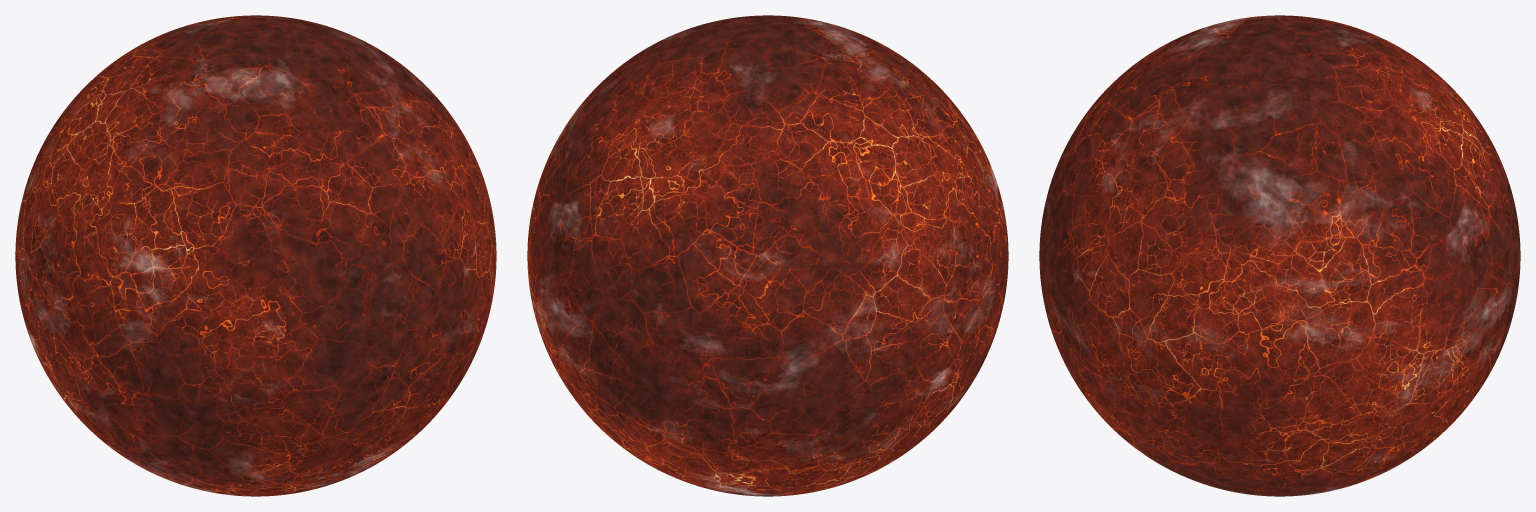
Rendered from Inferno.18f5cf3c13.glb.
3 renders of one model, left to right at view 1: azimuth 30°, elevation 25°; view 2: azimuth 150°, elevation 25°; view 3: azimuth 270°, elevation 25°, orthographic.
Parts seen in each view (by area): view 1: Inferno_NY_01, Inferno_NX_11, Inferno_PZ_00, Inferno_NY_00, Inferno_NY_11, Inferno_NX_10, Inferno_PZ_10, Inferno_NY_10, Inferno_NX_01, Inferno_PZ_01, Inferno_NZ_01, Inferno_PX_01 (+4 smaller); view 2: Inferno_PY_11, Inferno_NX_01, Inferno_PZ_01, Inferno_PY_10, Inferno_PY_01, Inferno_NX_00, Inferno_PZ_11, Inferno_PY_00, Inferno_NX_11, Inferno_PZ_00, Inferno_NZ_00, Inferno_PX_11 (+5 smaller); view 3: Inferno_PX_01, Inferno_PX_11, Inferno_PZ_10, Inferno_PZ_11, Inferno_PX_00, Inferno_PX_10, Inferno_NY_11, Inferno_PY_01, Inferno_PY_00, Inferno_NY_10, Inferno_PZ_00, Inferno_PZ_01 (+7 smaller).
Boxes of the visible parts, x1,y1,x2,y2 form: Inferno_NY_01: [193, 164, 376, 357]; Inferno_NX_11: [47, 138, 204, 353]; Inferno_PZ_00: [109, 38, 340, 209]; Inferno_NY_00: [193, 344, 376, 478]; Inferno_NY_11: [341, 151, 488, 343]; Inferno_NX_10: [47, 307, 204, 465]; Inferno_PZ_10: [256, 32, 445, 163]; Inferno_NY_10: [341, 283, 488, 472]; Inferno_NX_01: [15, 108, 108, 306]; Inferno_PZ_01: [66, 21, 255, 137]; Inferno_NZ_01: [110, 447, 340, 496]; Inferno_PX_01: [411, 72, 496, 281]; Inferno_PY_11: [647, 164, 830, 357]; Inferno_NX_01: [819, 138, 976, 353]; Inferno_PZ_01: [683, 38, 914, 209]; Inferno_PY_10: [647, 344, 830, 478]; Inferno_PY_01: [535, 151, 682, 343]; Inferno_NX_00: [819, 307, 976, 465]; Inferno_PZ_11: [578, 32, 767, 163]; Inferno_PY_00: [535, 283, 682, 472]; Inferno_NX_11: [915, 108, 1008, 306]; Inferno_PZ_00: [768, 21, 957, 137]; Inferno_NZ_00: [683, 447, 913, 496]; Inferno_PX_11: [527, 72, 612, 281]; Inferno_PX_01: [1110, 173, 1279, 357]; Inferno_PX_11: [1280, 173, 1449, 357]; Inferno_PZ_10: [1110, 38, 1279, 188]; Inferno_PZ_11: [1280, 38, 1449, 188]; Inferno_PX_00: [1110, 328, 1279, 481]; Inferno_PX_10: [1280, 328, 1449, 481]; Inferno_NY_11: [1039, 102, 1140, 327]; Inferno_PY_01: [1419, 102, 1520, 327]; Inferno_PY_00: [1419, 258, 1520, 440]; Inferno_NY_10: [1039, 258, 1140, 440]; Inferno_PZ_00: [1110, 15, 1279, 101]; Inferno_PZ_01: [1280, 15, 1449, 101].
Bounding box in the file's own units: 2.01 × 2.01 × 2.01.
Materials: 30 (30 with a texture image).
